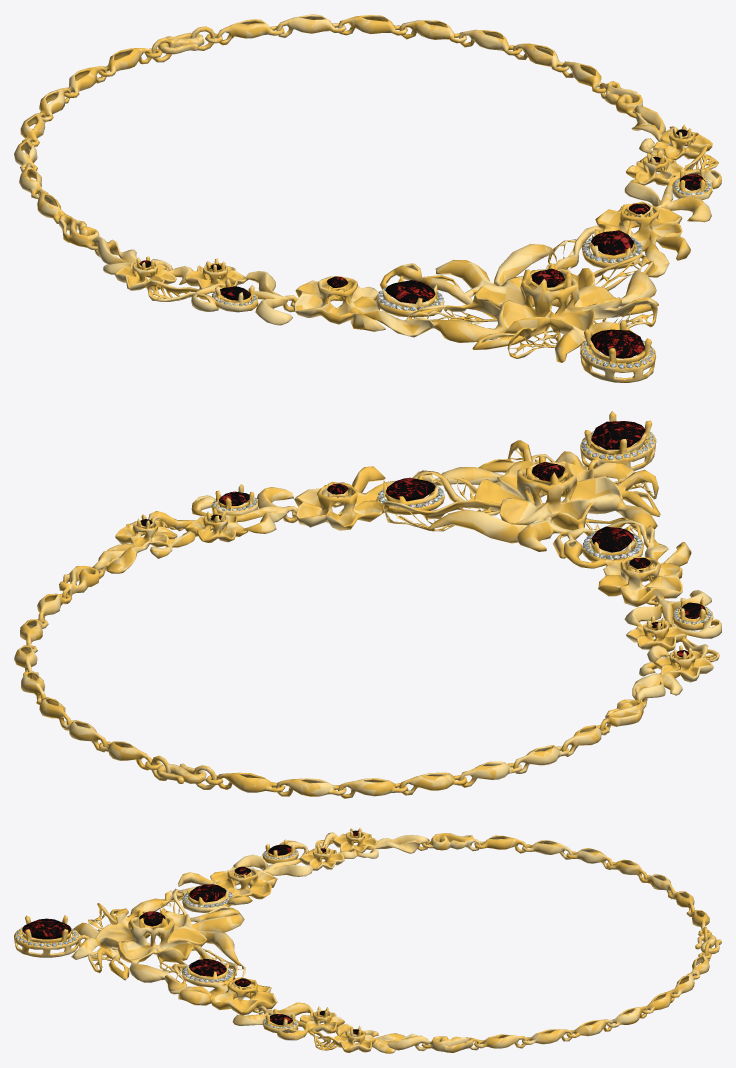
The model's file is pendant.fbx.
3 views of the same model, one above another, from view 1: azimuth 30°, elevation 25°; view 2: azimuth 150°, elevation 25°; view 3: azimuth 270°, elevation 25° (orthographic). The views are drawn at different scales.
Parts seen in each view (by area): view 1: BLN0003220A1SY0_09_BLN0003220A1SY0_lambert8_0; view 2: BLN0003220A1SY0_09_BLN0003220A1SY0_lambert8_0; view 3: BLN0003220A1SY0_09_BLN0003220A1SY0_lambert8_0.
Boxes of the visible parts, bbox=[...] form: BLN0003220A1SY0_09_BLN0003220A1SY0_lambert8_0: bbox=[14, 14, 721, 382]; BLN0003220A1SY0_09_BLN0003220A1SY0_lambert8_0: bbox=[14, 411, 721, 798]; BLN0003220A1SY0_09_BLN0003220A1SY0_lambert8_0: bbox=[14, 827, 721, 1053].
Bounding box in the file's own units: 157 × 13.81 × 217.
Materials: 3 (3 with a texture image).
